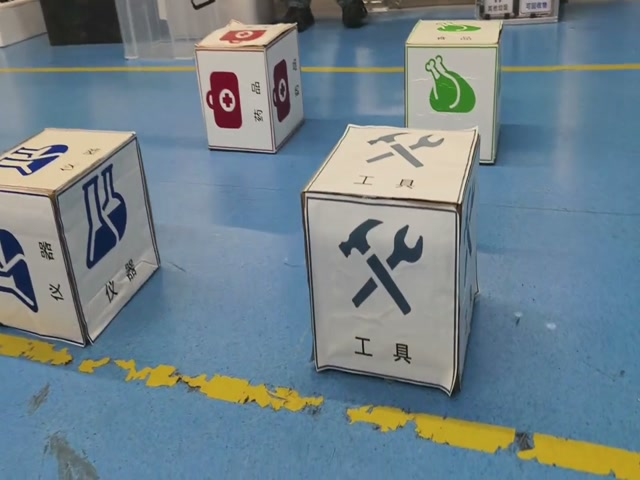Cube_food: (405, 15, 505, 53)
Cube_ins: (0, 125, 138, 198)
Cube_medicine: (193, 18, 298, 53)
Cube_tool: (302, 117, 480, 212)
